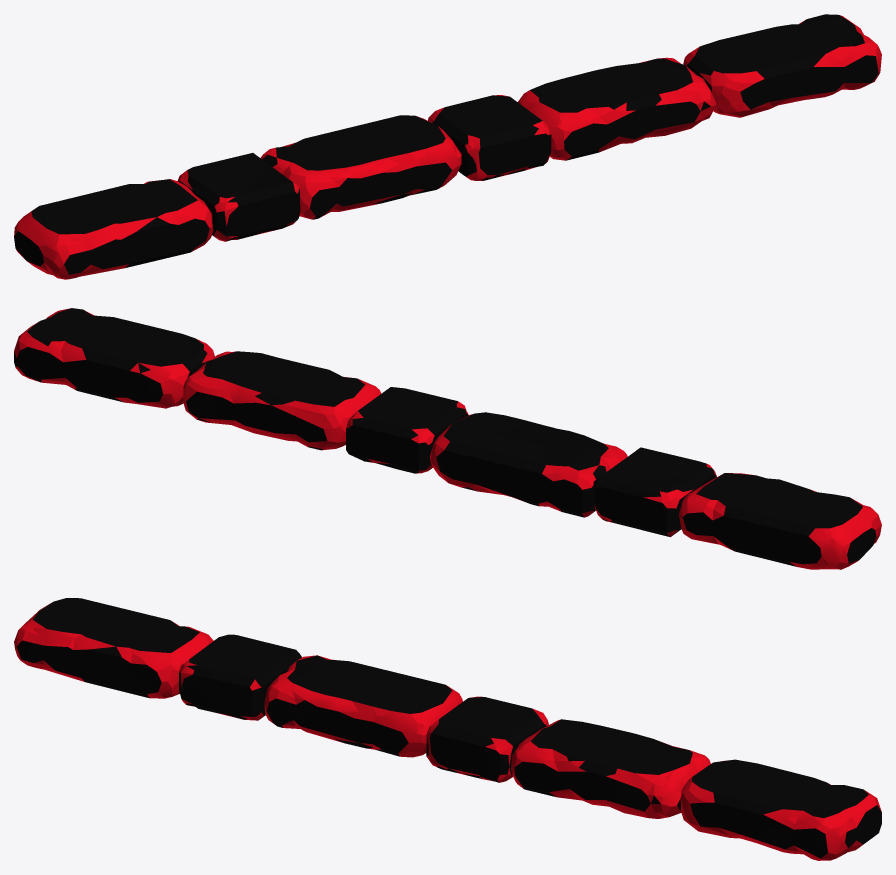
File: DungeonTrim_decim.fbx
The picture shows the model from 3 angles, top to bottom: view 1: azimuth 30°, elevation 25°; view 2: azimuth 150°, elevation 25°; view 3: azimuth 330°, elevation 25°; orthographic projection.
Parts seen in each view (by area): view 1: DungeonTrim_decim; view 2: DungeonTrim_decim; view 3: DungeonTrim_decim.
Part boxes in pixels (box(x1,y1,x2,y2)): DungeonTrim_decim: box(14, 14, 881, 279); DungeonTrim_decim: box(14, 308, 881, 569); DungeonTrim_decim: box(14, 598, 881, 860).
Size of the model in its own units: 400 by 42.4 by 20.17.
